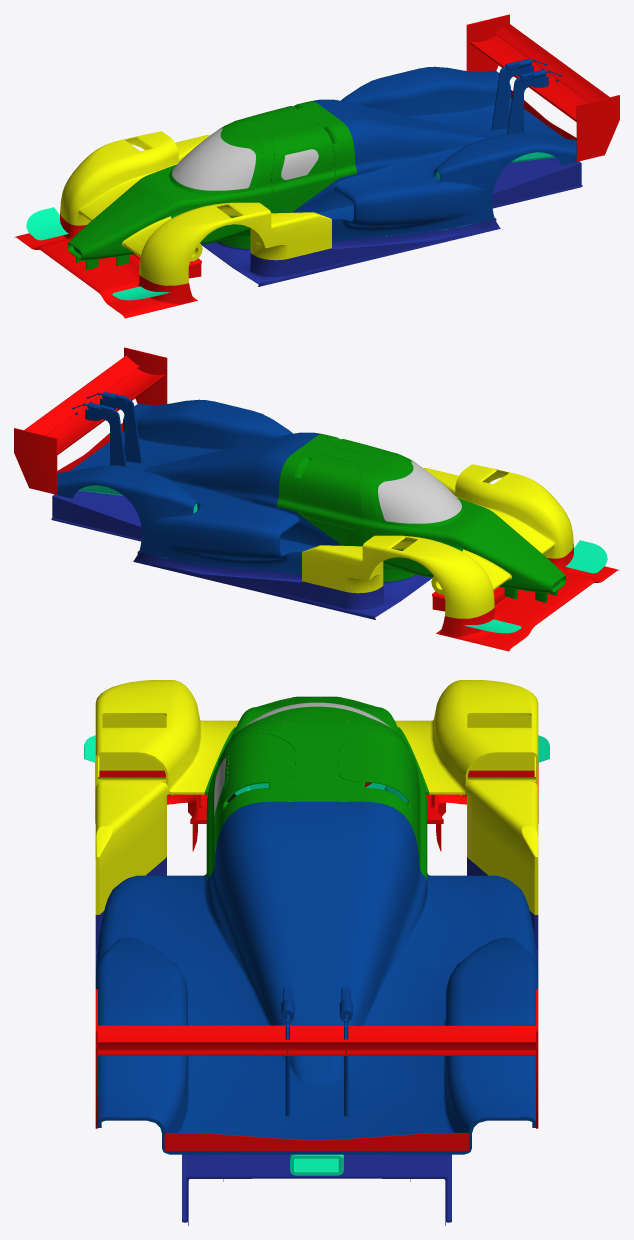
File: 424_SE_Nurburgring FBX source.fbx
3 views of the same model, one above another, from view 1: azimuth 30°, elevation 25°; view 2: azimuth 150°, elevation 25°; view 3: azimuth 270°, elevation 25° (orthographic). The views are drawn at different scales.
Parts seen in each view (by area): view 1: 424_Bodywork_Out_Low, 424_FrontBodywork_Low, 424_Floor_Low, 424_CockPit_Out_Low, 424_RearWing_Low, 424_FrontWing_Low, 424_Nosecone_Low, 424_Windshield_Low, 424_Door_L_Low, 424_RearWing_Flap_Low, 424_RearWing_Pillars_Low, 424_Front_DiveVane_Low (+4 smaller); view 2: 424_Bodywork_Out_Low, 424_FrontBodywork_Low, 424_Floor_Low, 424_CockPit_Out_Low, 424_RearWing_Low, 424_FrontWing_Low, 424_Door_R_Low, 424_Nosecone_Low, 424_Windshield_Low, 424_RearWing_Flap_Low, 424_RearWing_Pillars_Low, 424_Front_DiveVane_Low (+3 smaller); view 3: 424_Bodywork_Out_Low, 424_FrontBodywork_Low, 424_CockPit_Out_Low, 424_RearWing_Low, 424_Floor_Low, 424_RearWing_Flap_Low, 424_Gurney_Low, 424_Door_R_Low, 424_Door_L_Low, 424_FrontWing_Low, 424_WindShield_Frit_Low, 424_CrashBox_Low (+2 smaller).
Part boxes in pixels (<box>): 424_Bodywork_Out_Low: <box>292,66,576,242</box>; 424_FrontBodywork_Low: <box>60,131,331,285</box>; 424_Floor_Low: <box>201,157,582,286</box>; 424_CockPit_Out_Low: <box>136,101,357,248</box>; 424_RearWing_Low: <box>466,14,619,161</box>; 424_FrontWing_Low: <box>14,211,201,318</box>; 424_Nosecone_Low: <box>71,183,170,260</box>; 424_Windshield_Low: <box>172,128,255,190</box>; 424_Door_L_Low: <box>271,123,335,196</box>; 424_RearWing_Flap_Low: <box>494,21,609,102</box>; 424_RearWing_Pillars_Low: <box>491,65,548,133</box>; 424_Front_DiveVane_Low: <box>26,207,170,300</box>; 424_Bodywork_Out_Low: <box>57,399,341,575</box>; 424_FrontBodywork_Low: <box>302,464,573,618</box>; 424_Floor_Low: <box>51,490,432,619</box>; 424_CockPit_Out_Low: <box>276,434,497,581</box>; 424_RearWing_Low: <box>14,347,167,494</box>; 424_FrontWing_Low: <box>432,544,619,651</box>; 424_Door_R_Low: <box>298,456,362,529</box>; 424_Nosecone_Low: <box>463,516,562,593</box>; 424_Windshield_Low: <box>378,461,461,523</box>; 424_RearWing_Flap_Low: <box>24,354,139,435</box>; 424_RearWing_Pillars_Low: <box>85,398,142,466</box>; 424_Front_DiveVane_Low: <box>463,540,607,633</box>; 424_Bodywork_Out_Low: <box>95,801,538,1154</box>; 424_FrontBodywork_Low: <box>95,680,538,914</box>; 424_CockPit_Out_Low: <box>204,707,429,881</box>; 424_RearWing_Low: <box>95,989,538,1128</box>; 424_Floor_Low: <box>95,857,538,1225</box>; 424_RearWing_Flap_Low: <box>98,1038,535,1050</box>; 424_Gurney_Low: <box>164,1133,469,1151</box>; 424_Door_R_Low: <box>338,733,427,859</box>; 424_Door_L_Low: <box>206,733,295,859</box>; 424_FrontWing_Low: <box>95,763,538,851</box>; 424_WindShield_Frit_Low: <box>225,706,408,747</box>; 424_CrashBox_Low: <box>290,1154,343,1175</box>.
Size of the model in its own units: 4.9 by 0.9927 by 2.
